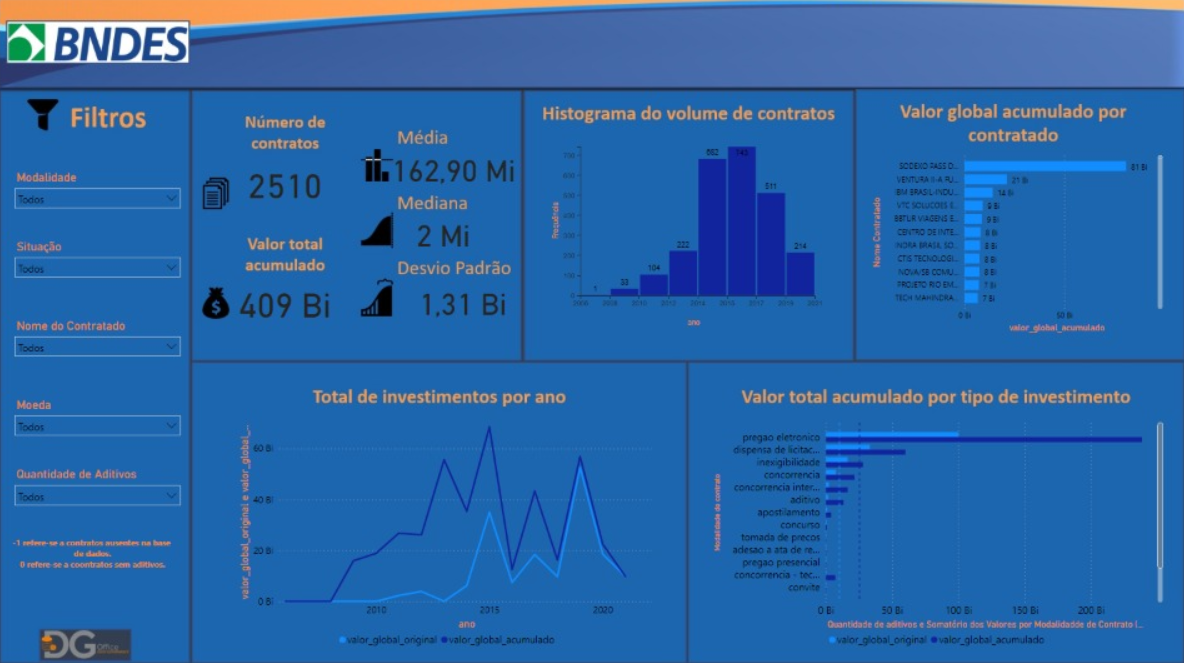

Layout of this report page (visuals, bound fields, positions):
{"tool":"powerbi","page":{"name":"DSOffice - BNDES","canvas":[1920,1081],"ordinal":0},"visuals":[{"type":"clusteredBarChart","title":"Valor total caumulado por tipo de contrato","fields":{"Category":["dfcontratosadm.TipoMod"],"Y":["dfcontratosadm.valor_global_original","dfcontratosadm.valor_global_acumulado"]},"box":[1152,672,736,384],"z":0},{"type":"clusteredBarChart","title":"Valor global acumulado por Contratado","fields":{"Category":["dfcontratosadm.Nome Contratado"],"Y":["dfcontratosadm.valor_global_acumulado"]},"box":[1408,240,480,304],"z":1000},{"type":"slicer","fields":{"Values":["dfcontratosadm.TipoMod"]},"box":[16,272,288,80],"z":2000},{"type":"slicer","fields":{"Values":["dfcontratosadm.situacao"]},"box":[16,384,288,96],"z":3000},{"type":"slicer","fields":{"Values":["dfcontratosadm.QUANT_ADIT"]},"box":[16,752,288,112],"z":4000},{"type":"textbox","box":[16,864,272,80],"z":5000},{"type":"slicer","fields":{"Values":["dfcontratosadm.Nome Contratado"]},"box":[16,512,288,96],"z":6000},{"type":"slicer","fields":{"Values":["dfcontratosadm.moeda"]},"box":[16,640,288,80],"z":7000},{"type":"lineChart","title":"Total de investimentos por ano","fields":{"Category":["dfcontratosadm.ano"],"Y":["dfcontratosadm.valor_global_original","dfcontratosadm.valor_global_acumulado"]},"box":[384,672,688,384],"z":8000},{"type":"Histogram1445664487616","title":"Histograma do volume de contratos","fields":{"Values":["dfcontratosadm.ano"],"Frequency":["dfcontratosadm.ano"]},"box":[880,224,480,320],"z":9000},{"type":"card","fields":{"Values":["dfcontratosadm.Column1"]},"box":[320,224,288,144],"z":10000},{"type":"card","fields":{"Values":["dfcontratosadm.valor_global_acumulado"]},"box":[320,416,288,144],"z":11000},{"type":"card","fields":{"Values":["dfcontratosadm.valor_global_acumulado"]},"box":[592,192,288,160],"z":12000},{"type":"card","fields":{"Values":["dfcontratosadm.valor_global_acumulado"]},"box":[576,336,288,80],"z":13000},{"type":"card","fields":{"Values":["dfcontratosadm.valor_global_acumulado"]},"box":[608,416,288,144],"z":14000}]}

Visuals, with their boxes in screenshot pixels (x1, y1, x2, y2), scaled from the page's 1920x1081 canvas onto the 1184x663 screenshot:
"Valor total caumulado por tipo de contrato" clusteredBarChart: crop(710, 412, 1164, 648)
"Valor global acumulado por Contratado" clusteredBarChart: crop(868, 147, 1164, 334)
slicer - dfcontratosadm.TipoMod: crop(10, 167, 187, 216)
slicer - dfcontratosadm.situacao: crop(10, 236, 187, 294)
slicer - dfcontratosadm.QUANT_ADIT: crop(10, 461, 187, 530)
textbox: crop(10, 530, 178, 579)
slicer - dfcontratosadm.Nome Contratado: crop(10, 314, 187, 373)
slicer - dfcontratosadm.moeda: crop(10, 393, 187, 442)
"Total de investimentos por ano" lineChart: crop(237, 412, 661, 648)
"Histograma do volume de contratos" Histogram1445664487616: crop(543, 137, 839, 334)
card - dfcontratosadm.Column1: crop(197, 137, 375, 226)
card - dfcontratosadm.valor_global_acumulado: crop(197, 255, 375, 343)
card - dfcontratosadm.valor_global_acumulado: crop(365, 118, 543, 216)
card - dfcontratosadm.valor_global_acumulado: crop(355, 206, 533, 255)
card - dfcontratosadm.valor_global_acumulado: crop(375, 255, 553, 343)
